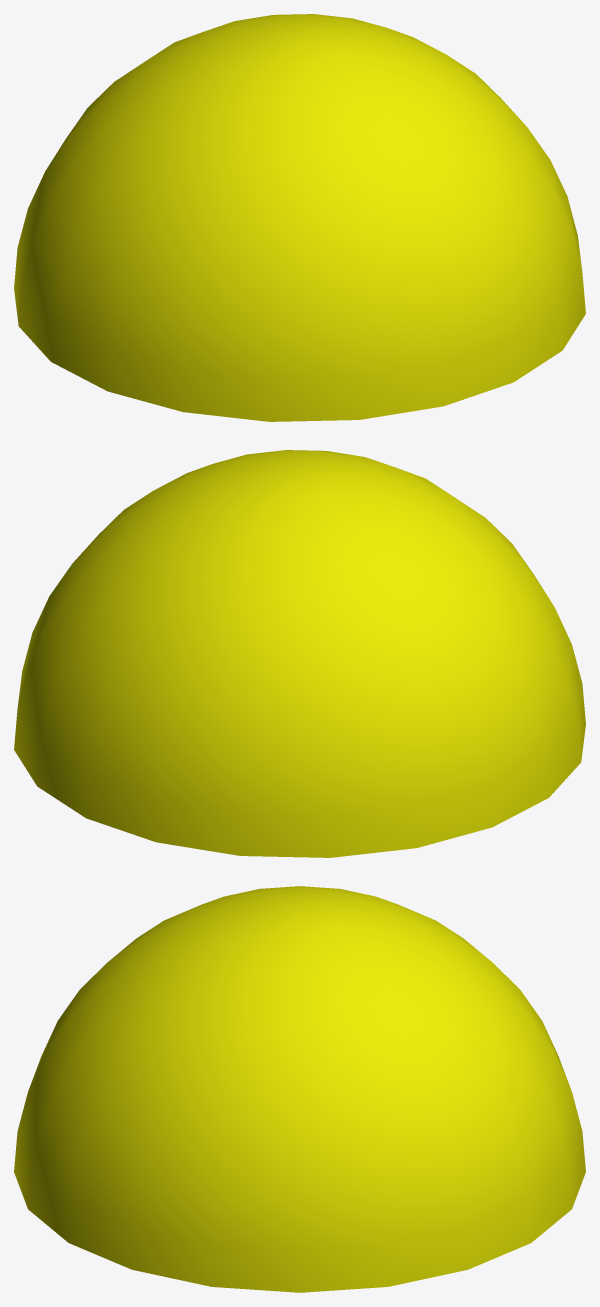
Rendered from pac_half.fbx.
The picture shows the model from 3 angles, top to bottom: view 1: azimuth 30°, elevation 25°; view 2: azimuth 150°, elevation 25°; view 3: azimuth 270°, elevation 25°; orthographic projection.
Parts seen in each view (by area): view 1: pSphere1; view 2: pSphere1; view 3: pSphere1.
Boxes of the visible parts, x1=… form: pSphere1: x1=14, y1=14, x2=585, y2=421; pSphere1: x1=14, y1=450, x2=585, y2=857; pSphere1: x1=14, y1=886, x2=585, y2=1292.
Bounding box in the file's own units: 2 × 1 × 2.
